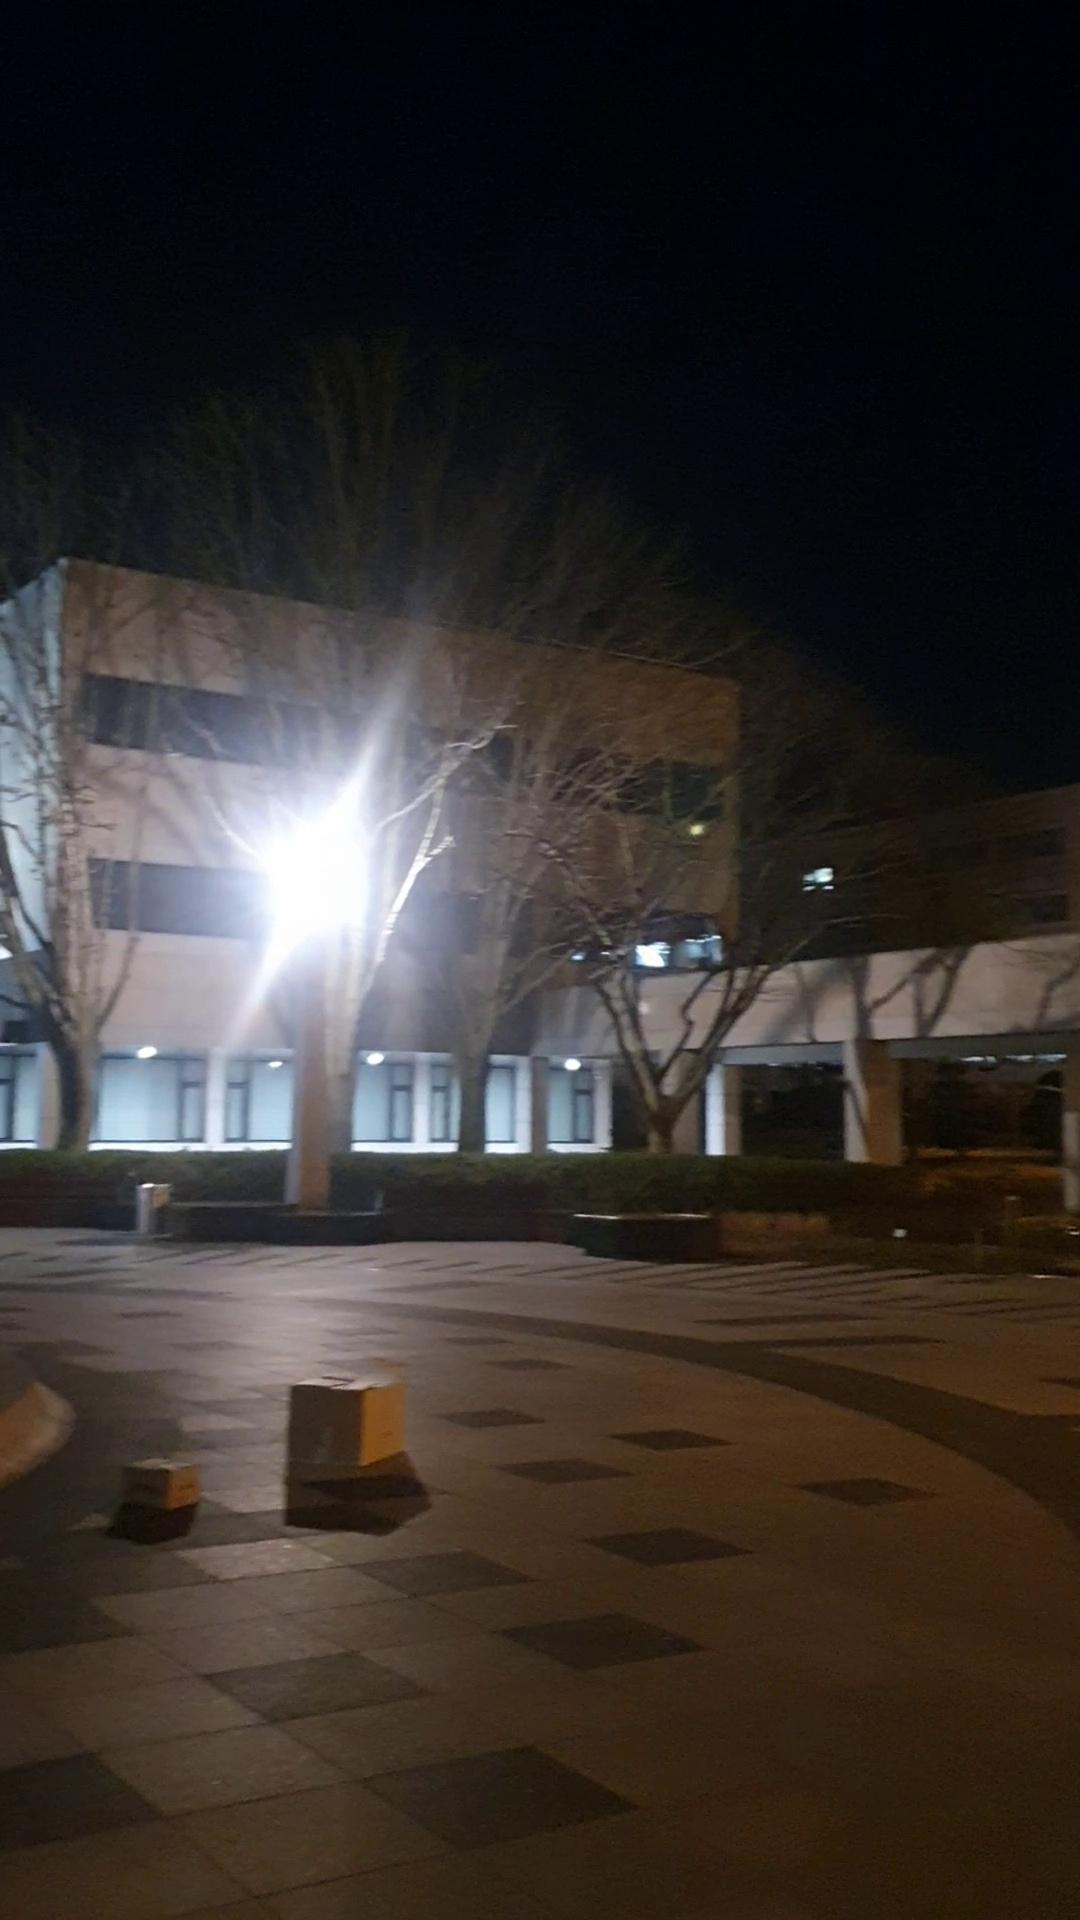Box: (278, 1360, 402, 1497), (108, 1443, 202, 1520)
